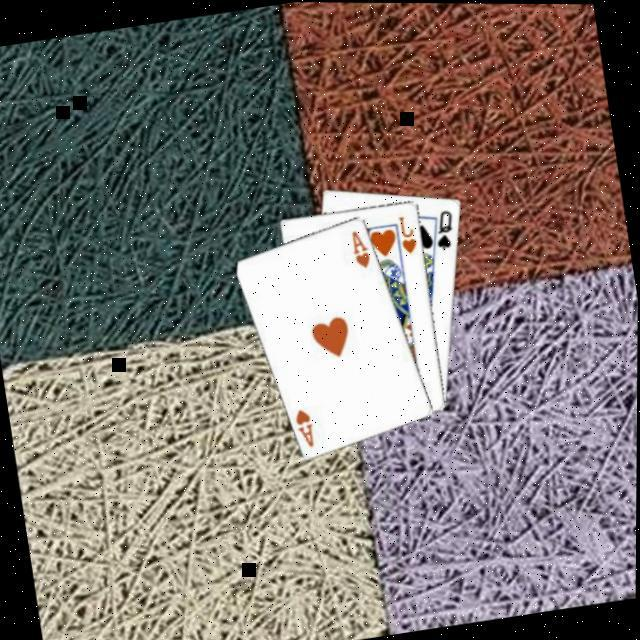AH: (292, 406, 321, 454), (348, 226, 377, 273)
JH: (396, 212, 422, 258)
QS: (431, 207, 462, 254)
